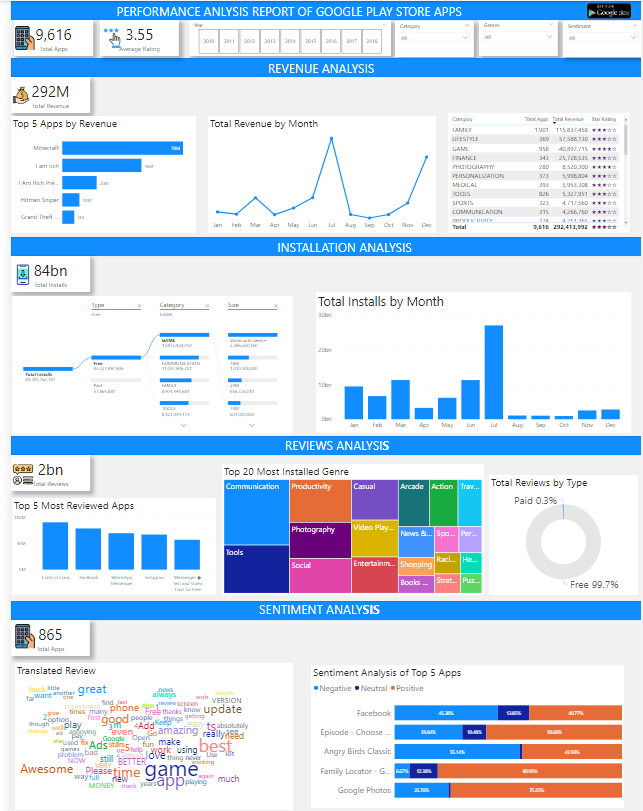

Layout of this report page (visuals, bound fields, positions):
{"tool":"powerbi","page":{"name":"Dashboard","canvas":[1664,2164],"ordinal":0},"visuals":[{"type":"shape","box":[0,0,1664,50.6],"z":0},{"type":"textbox","box":[73.9,0,1319.5,52.8],"z":1000},{"type":"image","box":[1494.6,0,169.4,50.6],"z":2000},{"type":"card","fields":{"Values":["Measures Table.Total Apps"]},"box":[8.9,50.6,208.6,94.8],"z":3000},{"type":"image","box":[1.3,50.6,73.3,94.8],"z":4000},{"type":"slicer","fields":{"Values":["CalendarTable.Year"]},"box":[469.7,50.1,533.1,95],"z":5000},{"type":"slicer","fields":{"Values":["apps.Category"]},"box":[1013.4,52.8,208,95],"z":6000},{"type":"slicer","fields":{"Values":["apps.Genres"]},"box":[1235.1,50.1,208.5,95],"z":7000},{"type":"shape","box":[0,150.5,1664,50.6],"z":8000},{"type":"textbox","box":[607,150.4,422.2,73.9],"z":9000},{"type":"card","fields":{"Values":["Measures Table.Total Revenue"]},"box":[0,201,208.6,94.8],"z":10000},{"type":"image","box":[0,199.8,54.4,96.1],"z":11000},{"type":"clusteredBarChart","title":"Top 5 Apps by Revenue","fields":{"Y":["Measures Table.Total Revenue"],"Category":["apps.App"]},"box":[0,304.7,488.1,308.5],"z":12000},{"type":"lineChart","title":"Total Revenue by Month","fields":{"Y":["Measures Table.Total Revenue"],"Category":["CalendarTable.Name of Month"]},"box":[519.7,304.7,601.9,308.5],"z":13000},{"type":"tableEx","fields":{"Values":["apps.Category","Measures Table.Total Apps","Measures Table.Total Revenue","Measures Table.Average Rating star rating"]},"box":[1153.2,295.9,479.2,316.1],"z":14000},{"type":"shape","box":[0,622.1,1664,50.6],"z":15000},{"type":"textbox","box":[607,622.8,546.3,68.6],"z":16000},{"type":"card","fields":{"Values":["Measures Table.Total Installs"]},"box":[0,673.7,209,95.4],"z":17000},{"type":"image","box":[0,659.5,62.9,123.8],"z":18000},{"type":"decompositionTreeVisual","fields":{"Analyze":["Measures Table.Total Installs"],"ExplainBy":["apps.Type","apps.Category","apps.Size"]},"box":[2,777.2,740.7,363.2],"z":19000},{"type":"clusteredColumnChart","title":"Total Installs by Month","fields":{"Y":["Measures Table.Total Installs"],"Category":["CalendarTable.Name of Month"]},"box":[803.6,769.1,832,371.4],"z":20000},{"type":"shape","box":[0,1148.6,1664,50.7],"z":21000},{"type":"textbox","box":[607,1145.3,506.7,52.8],"z":22000},{"type":"card","fields":{"Values":["Measures Table.Total Reviews"]},"box":[0,1199.3,209,95.4],"z":23000},{"type":"image","box":[0,1174.9,62.9,150.2],"z":24000},{"type":"clusteredColumnChart","title":"Top 5 Most Reviewed Apps","fields":{"Y":["Measures Table.Total Reviews"],"Category":["apps.App"]},"box":[2.6,1311.6,538.4,256],"z":25000},{"type":"treemap","title":"Top 20 Most Installed Genre","fields":{"Values":["Measures Table.Total Installs"],"Group":["apps.Genres"]},"box":[555.5,1221.9,691.4,345.7],"z":26000},{"type":"shape","box":[0,1582.8,1664,50.7],"z":27000},{"type":"textbox","box":[607,1578.1,414.3,55.4],"z":28000},{"type":"card","fields":{"Values":["Measures Table.Number of Apps"]},"box":[0,1633.6,208.5,95],"z":29000},{"type":"WordCloud1447959067750","title":"Translated Review","fields":{"Category":["reviews.Translated_Review"]},"box":[10.6,1747,733.6,387.9],"z":30000},{"type":"hundredPercentStackedBarChart","title":"Sentiment Analysis of Top 5 Apps","fields":{"Category":["reviews.App"],"Y":["Measures Table.Count of Sentiment"],"Series":["reviews.Sentiment"]},"box":[791.7,1752.3,826,377.4],"z":31000},{"type":"donutChart","fields":{"Y":["Measures Table.Total Reviews"],"Category":["apps.Type"]},"box":[1261.5,1250.9,393.2,316.7],"z":32000},{"type":"slicer","fields":{"Values":["reviews.Sentiment"]},"box":[1456.7,52.8,208.5,95],"z":33000},{"type":"image","box":[0,1628.3,73.9,95],"z":34000},{"type":"card","fields":{"Values":["Measures Table.Average Rating"]},"box":[234.9,50.1,208.5,95],"z":35000},{"type":"image","box":[234.9,50.1,63.3,95],"z":36000}]}

Visuals, with their boxes on the page's 1664x2164 design canvas (x1, y1, x2, y2). These are canvas units, not pixel positions in the 643x811 screenshot, which may show the page scaled, cropped or inside an application window:
shape: Rect(0, 0, 1664, 51)
textbox: Rect(74, 0, 1393, 53)
image: Rect(1495, 0, 1664, 51)
card - Measures Table.Total Apps: Rect(9, 51, 218, 145)
image: Rect(1, 51, 75, 145)
slicer - CalendarTable.Year: Rect(470, 50, 1003, 145)
slicer - apps.Category: Rect(1013, 53, 1221, 148)
slicer - apps.Genres: Rect(1235, 50, 1444, 145)
shape: Rect(0, 150, 1664, 201)
textbox: Rect(607, 150, 1029, 224)
card - Measures Table.Total Revenue: Rect(0, 201, 209, 296)
image: Rect(0, 200, 54, 296)
"Top 5 Apps by Revenue" clusteredBarChart: Rect(0, 305, 488, 613)
"Total Revenue by Month" lineChart: Rect(520, 305, 1122, 613)
tableEx - apps.Category x Measures Table.Total Apps: Rect(1153, 296, 1632, 612)
shape: Rect(0, 622, 1664, 673)
textbox: Rect(607, 623, 1153, 691)
card - Measures Table.Total Installs: Rect(0, 674, 209, 769)
image: Rect(0, 660, 63, 783)
decompositionTreeVisual - Measures Table.Total Installs x apps.Type: Rect(2, 777, 743, 1140)
"Total Installs by Month" clusteredColumnChart: Rect(804, 769, 1636, 1140)
shape: Rect(0, 1149, 1664, 1199)
textbox: Rect(607, 1145, 1114, 1198)
card - Measures Table.Total Reviews: Rect(0, 1199, 209, 1295)
image: Rect(0, 1175, 63, 1325)
"Top 5 Most Reviewed Apps" clusteredColumnChart: Rect(3, 1312, 541, 1568)
"Top 20 Most Installed Genre" treemap: Rect(556, 1222, 1247, 1568)
shape: Rect(0, 1583, 1664, 1634)
textbox: Rect(607, 1578, 1021, 1634)
card - Measures Table.Number of Apps: Rect(0, 1634, 208, 1729)
"Translated Review" WordCloud1447959067750: Rect(11, 1747, 744, 2135)
"Sentiment Analysis of Top 5 Apps" hundredPercentStackedBarChart: Rect(792, 1752, 1618, 2130)
donutChart - Measures Table.Total Reviews x apps.Type: Rect(1262, 1251, 1655, 1568)
slicer - reviews.Sentiment: Rect(1457, 53, 1665, 148)
image: Rect(0, 1628, 74, 1723)
card - Measures Table.Average Rating: Rect(235, 50, 443, 145)
image: Rect(235, 50, 298, 145)
